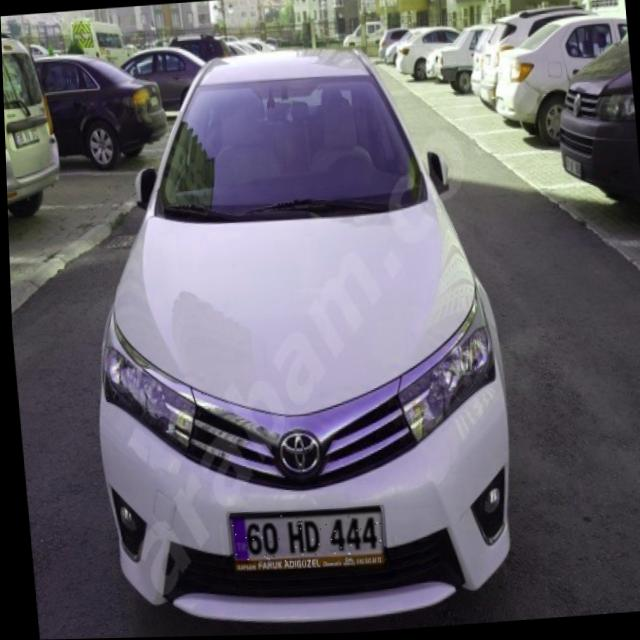license_plate: (225, 509, 380, 566)
